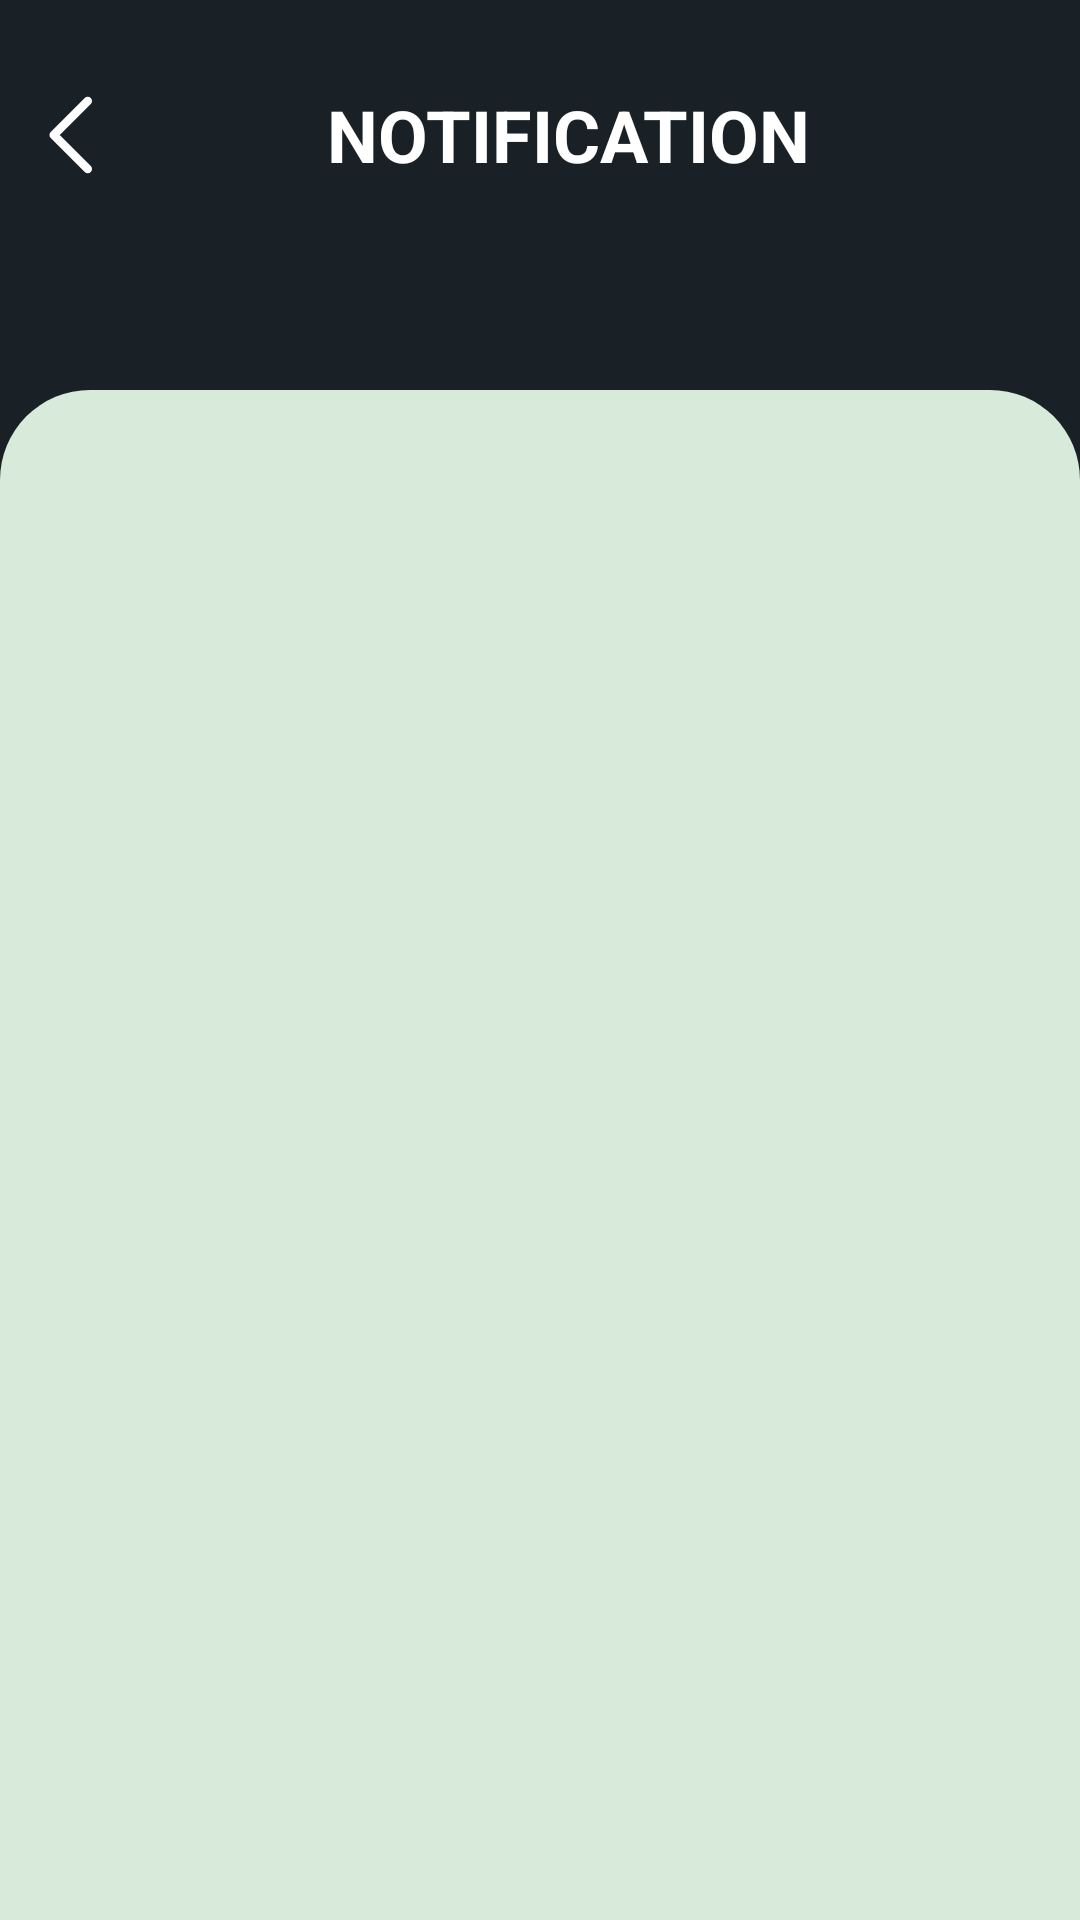

Where icons sit on this 1080 x 1920 app screen, as {"x1": x1, "y1": y1, "x2": x2, "y2": y2}:
Back: {"x1": 49, "y1": 96, "x2": 92, "y2": 174}
